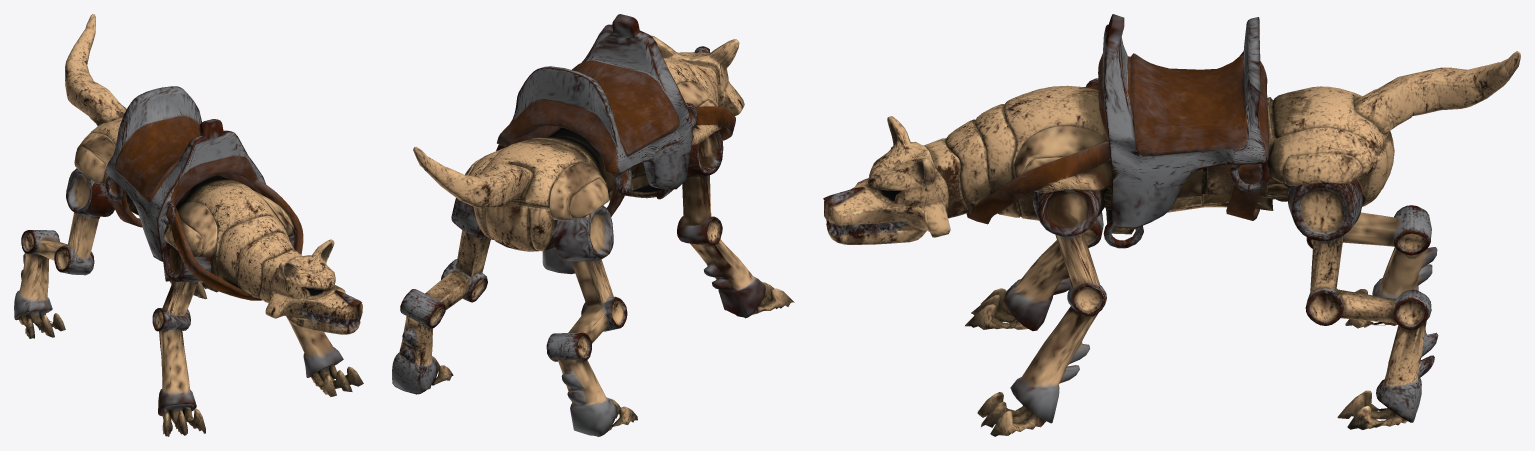
The model's file is MZ4250 - Clockwork Dire Wolf - Bronze Rusty.glb.
The picture shows the model from 3 angles, left to right: view 1: azimuth 30°, elevation 25°; view 2: azimuth 150°, elevation 25°; view 3: azimuth 270°, elevation 25°; orthographic projection. The views are drawn at different scales.
Visible parts, largest first — view 1: Clockwork Dire Wolf_low.001; view 2: Clockwork Dire Wolf_low.001; view 3: Clockwork Dire Wolf_low.001.
Boxes of the visible parts, x1,y1,x2,y2 form: Clockwork Dire Wolf_low.001: (14, 14, 363, 436); Clockwork Dire Wolf_low.001: (392, 14, 794, 436); Clockwork Dire Wolf_low.001: (823, 14, 1520, 436).
Size of the model in its own units: 0.604 by 0.7363 by 1.33.
Materials: 1 (1 with a texture image).
